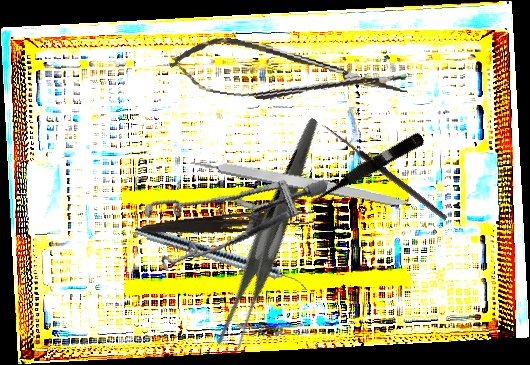Dressing Forceps: (163, 117, 382, 356), (140, 205, 315, 242)
Handpiece: (132, 223, 310, 292)
Hook Surgical: (316, 121, 449, 228)
Micro Scissor: (167, 30, 412, 120), (304, 128, 426, 209)
Scalpel Handle: (189, 152, 413, 211)
Speculum: (130, 134, 329, 307)
